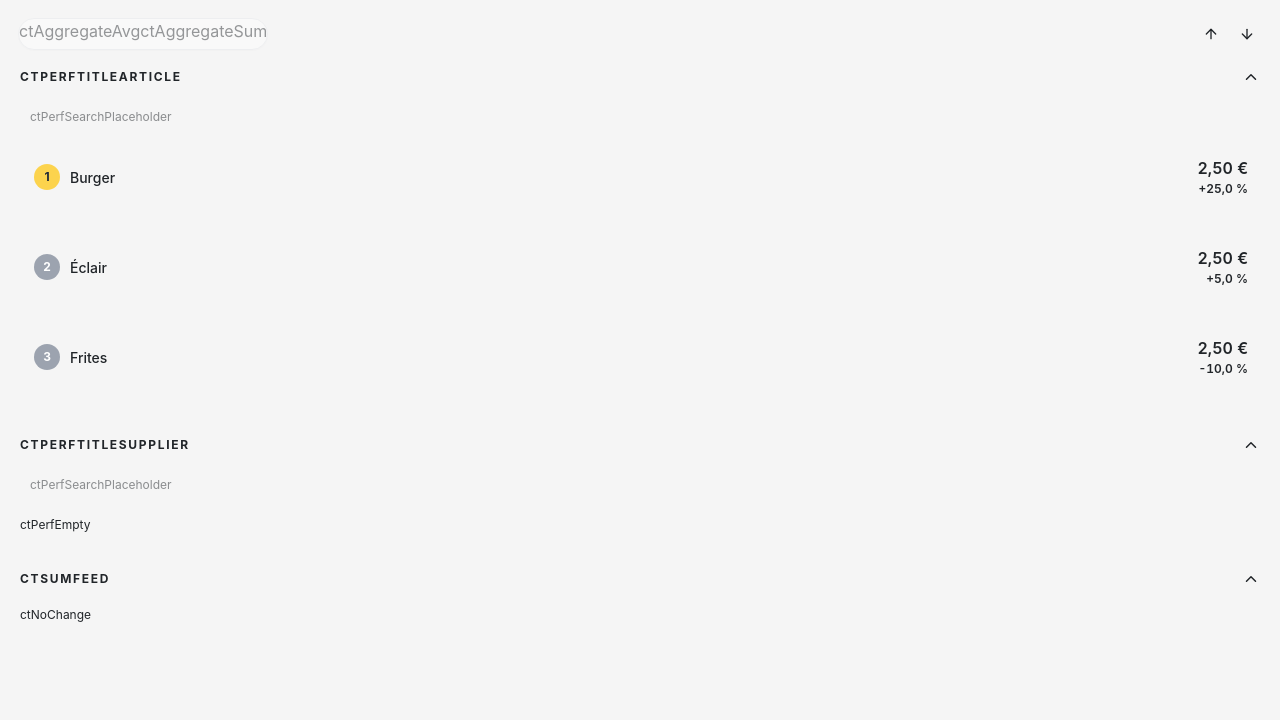
Test: CostTrackingSummaryPanel › la recherche filtre par nom sans tenir compte de la casse ni des accents
Type "ECLAIR" into the 1st search field with class "ct-perf__search" at (640, 117), box [18,100,1262,134]
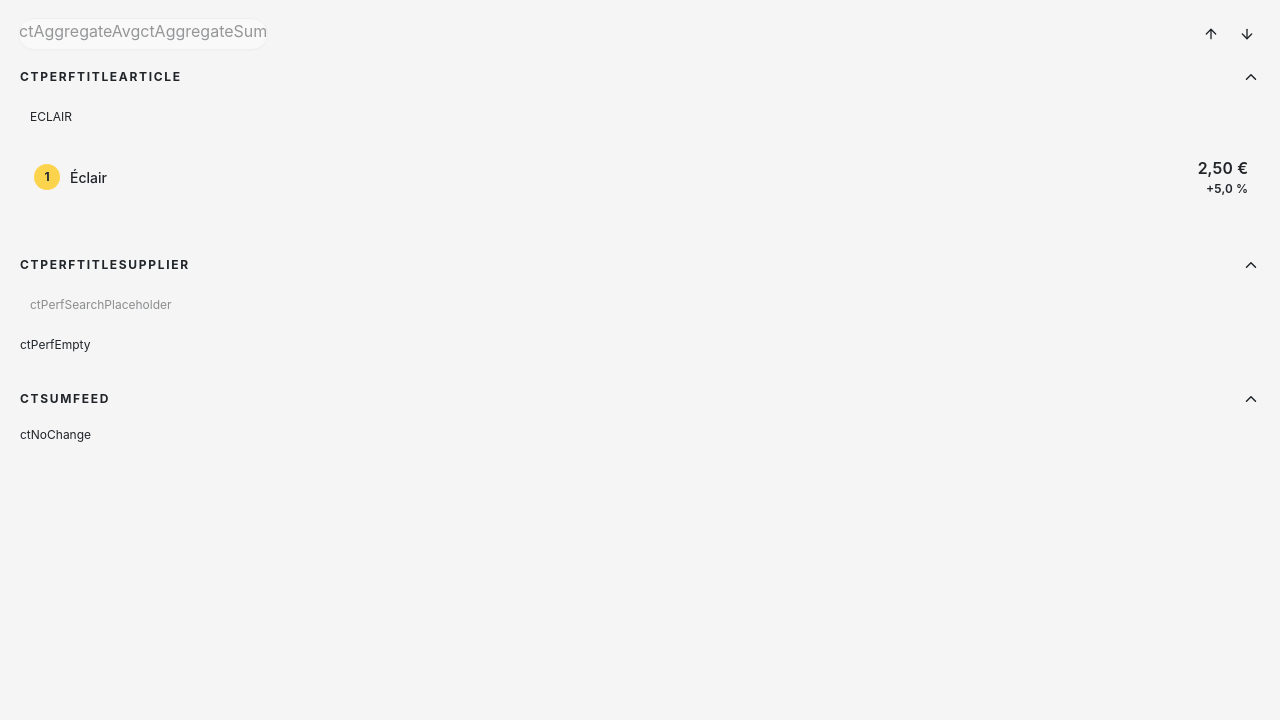
Replace the text in the 1st search field with class "ct-perf__search" with "zzz" at (640, 117), box [18,100,1262,134]
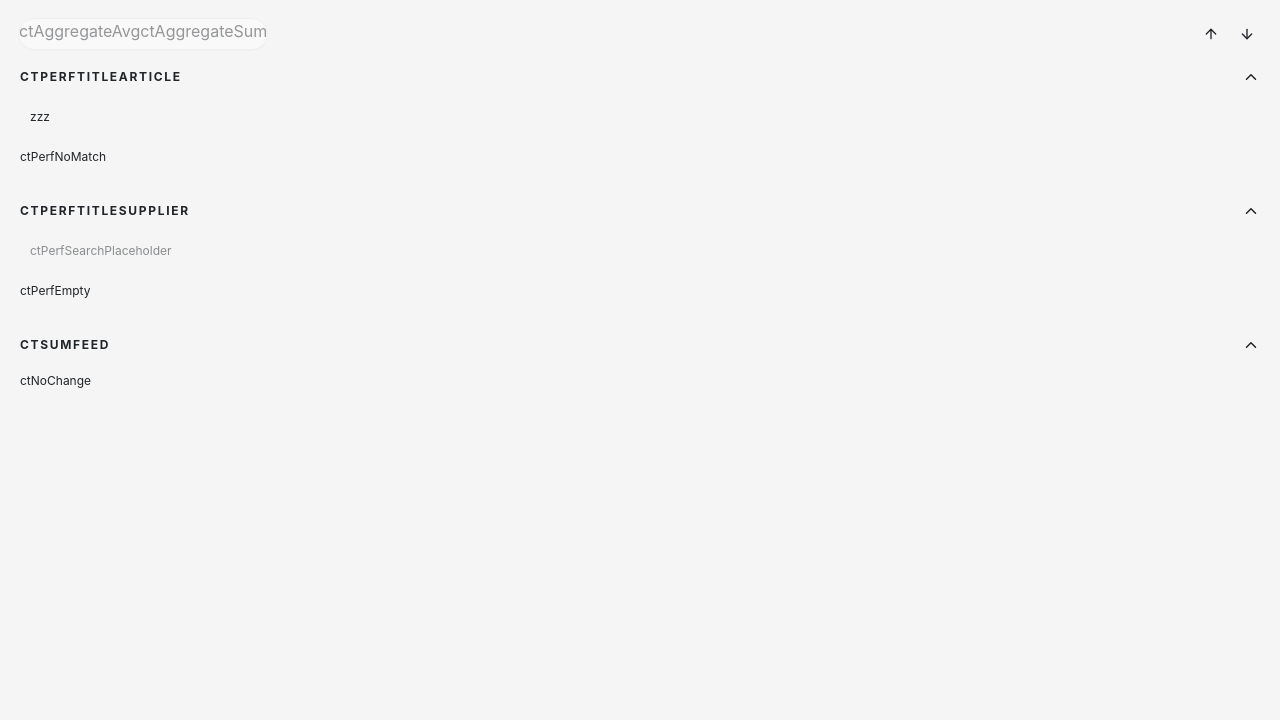
Expected: the text "ctPerfNoMatch" is shown, [20,149,106,164]
